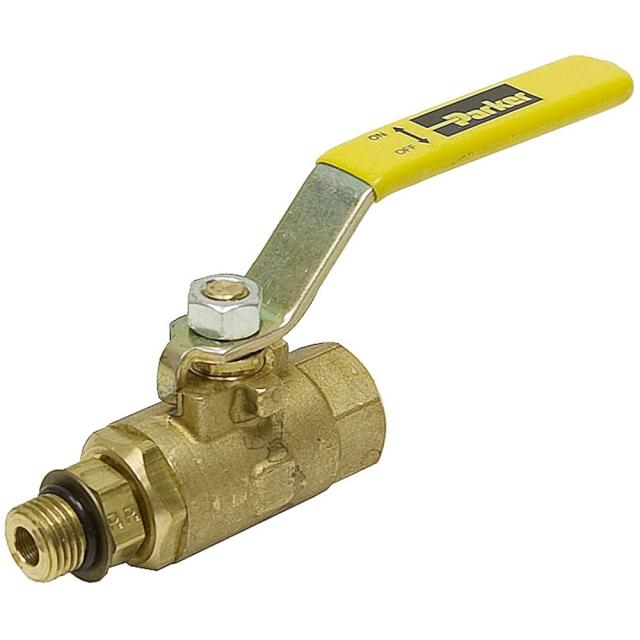opened_valve: (4, 52, 637, 583)
